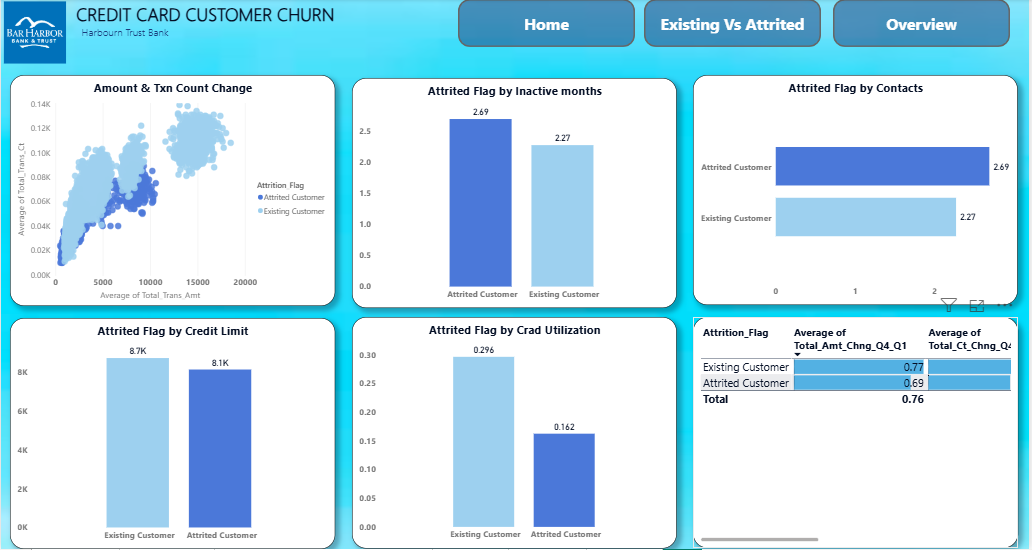

This screenshot's page, from the dashboard's own definition file:
{"tool":"powerbi","page":{"name":"Page 2","canvas":[2150,1150],"ordinal":4},"visuals":[{"type":"image","box":[0,0,141.8,140.4],"z":0},{"type":"textbox","box":[142.2,0,710.9,161],"z":1000},{"type":"scatterChart","title":"Amount & Txn Count Change","fields":{"X":["BankChurners.Total_Trans_Amt"],"Category":["BankChurners.CLIENTNUM"],"Series":["BankChurners.Attrition_Flag"],"Y":["Avg(BankChurners.Total_Trans_Ct)"]},"box":[18.9,158.6,679.6,483],"z":2000},{"type":"clusteredColumnChart","title":"Attrited Flag by Credit Limit","fields":{"Category":["BankChurners.Attrition_Flag"],"Y":["Avg(BankChurners.Credit_Limit)"]},"box":[18.8,667,679.5,483],"z":3000},{"type":"clusteredColumnChart","title":"Attrited Flag by Crad Utilization","fields":{"Category":["BankChurners.Attrition_Flag"],"Y":["Avg(BankChurners.Avg_Utilization_Ratio)"]},"box":[734.1,665.3,679.1,483.9],"z":4000},{"type":"clusteredColumnChart","title":"Attrited Flag by Inactive months ","fields":{"Category":["BankChurners.Attrition_Flag"],"Y":["Avg(BankChurners.Months_Inactive_12_mon)"]},"box":[734.1,165,679.1,481.1],"z":5000},{"type":"clusteredBarChart","title":"Attrited Flag by Contacts ","fields":{"Category":["BankChurners.Attrition_Flag"],"Y":["Avg(BankChurners.Months_Inactive_12_mon)"]},"box":[1446.2,159.5,679.1,481.1],"z":6000},{"type":"tableEx","title":"Customers by Education","fields":{"Values":["BankChurners.Attrition_Flag","Avg(BankChurners.Total_Amt_Chng_Q4_Q1)","Avg(BankChurners.Total_Ct_Chng_Q4_Q1)","Avg(BankChurners.Total_Revolving_Bal)","Avg(BankChurners.Total_Relationship_Count)","Avg(BankChurners.Dependent_count)"]},"box":[1446.9,664.9,679.5,483],"z":7000},{"type":"actionButton","box":[955.5,0,370.1,100.4],"z":8000},{"type":"actionButton","box":[1344.5,0,370.1,100.4],"z":9000},{"type":"actionButton","box":[1739.6,0,370.1,100.4],"z":10000}]}

Visuals, with their boxes in screenshot pixels (x1, y1, x2, y2), scaled from the page's 2150x1150 canvas onto the 1032x550 screenshot:
image: 0 0 68 67
textbox: 68 0 409 77
"Amount & Txn Count Change" scatterChart: 9 76 335 307
"Attrited Flag by Credit Limit" clusteredColumnChart: 9 319 335 549
"Attrited Flag by Crad Utilization" clusteredColumnChart: 352 318 678 549
"Attrited Flag by Inactive months " clusteredColumnChart: 352 79 678 309
"Attrited Flag by Contacts " clusteredBarChart: 694 76 1020 306
"Customers by Education" tableEx: 695 318 1021 549
actionButton: 459 0 636 48
actionButton: 645 0 823 48
actionButton: 835 0 1013 48
